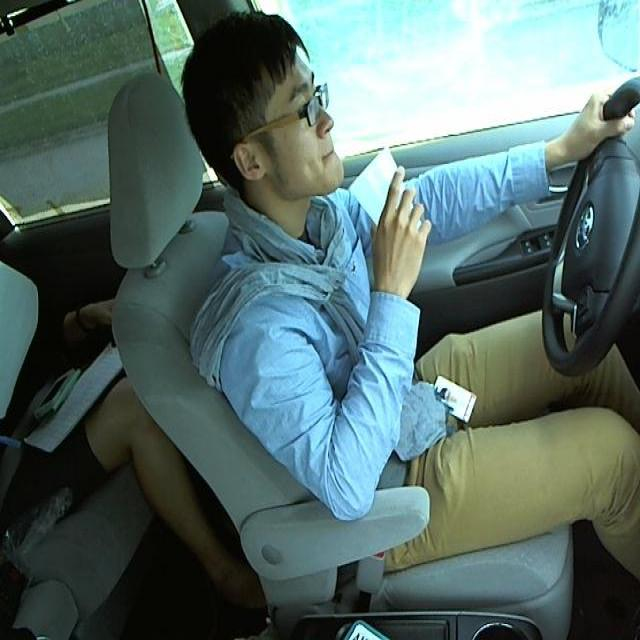drinking: (347, 144, 427, 249)
